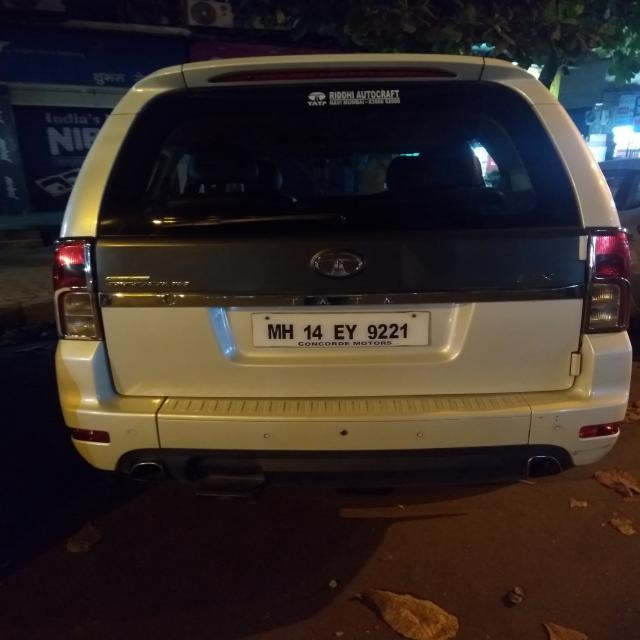Number-Plate: (259, 310, 427, 348)
